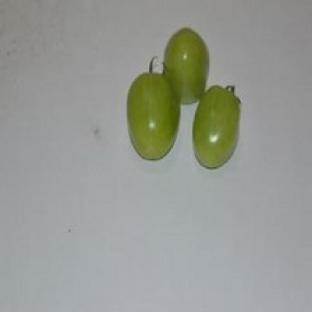Tomato: (127, 73, 179, 160), (193, 85, 239, 168), (165, 28, 208, 104)
